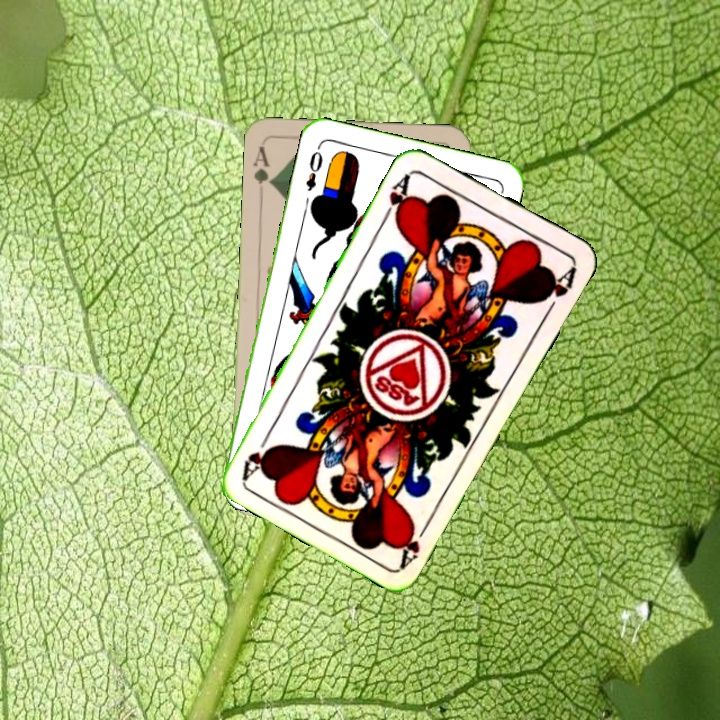EO: (302, 142, 326, 194)
GA: (249, 142, 276, 189)
HA: (395, 515, 434, 570), (378, 169, 414, 225)
